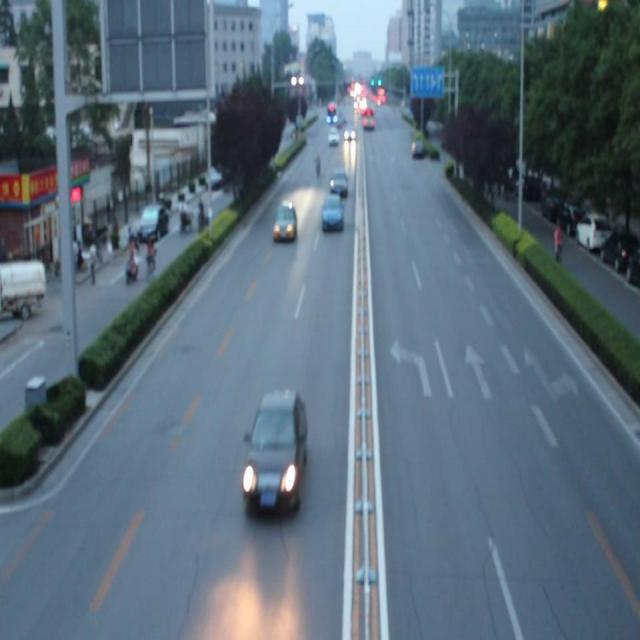car: (241, 387, 306, 511), (272, 200, 297, 244), (320, 193, 342, 234)
